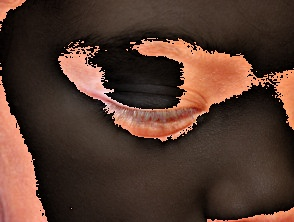vitiligo: (44, 55, 221, 153)
